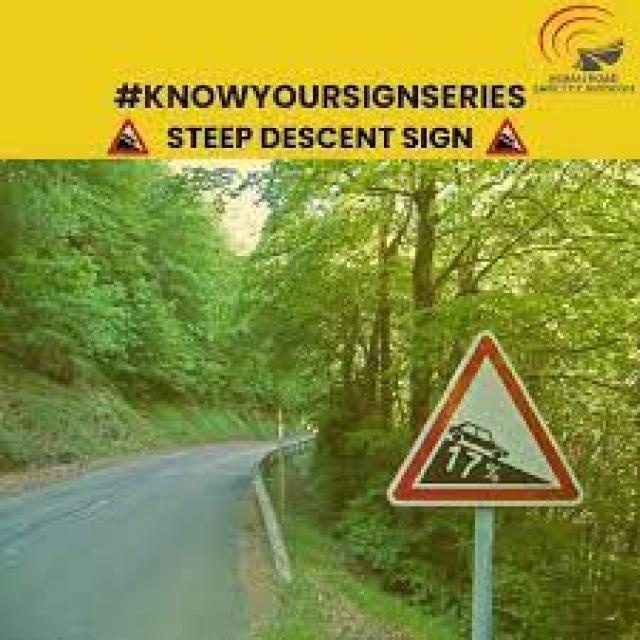steep descent: (389, 334, 588, 513)
